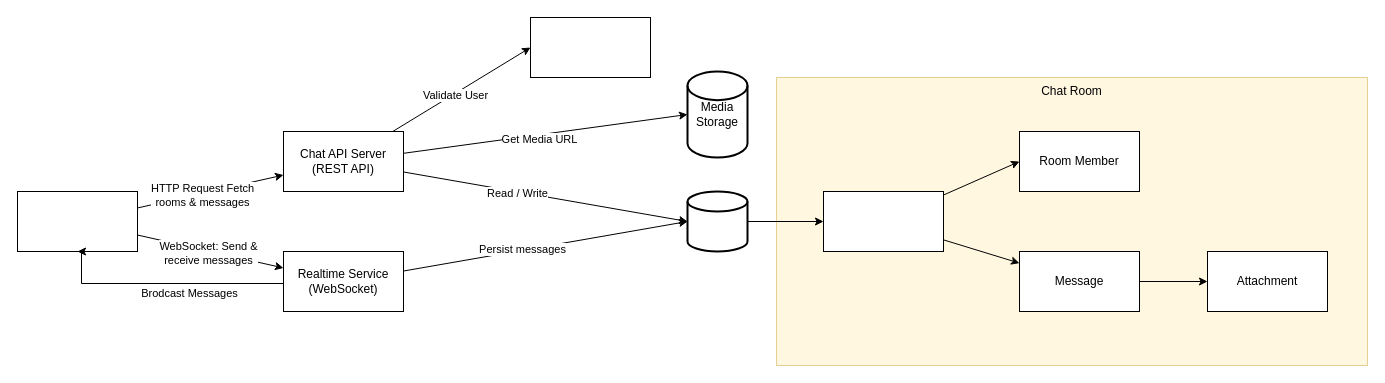
Image size: 1385x383. Some labels were removed from this diagram. Each missing label, with the centre of its shape:
"Auth Service" belongs at point (590, 47).
"Database" belongs at point (717, 221).
"Room (Private / Group)" belongs at point (883, 221).
"Web Client (Responsive UI)" belongs at point (77, 221).
